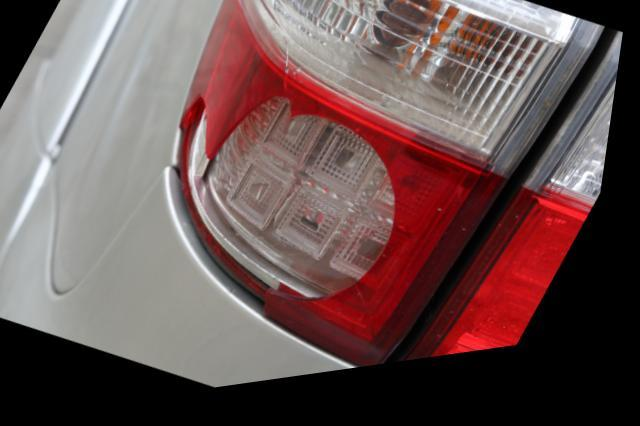lamp broken: (180, 0, 607, 380)
